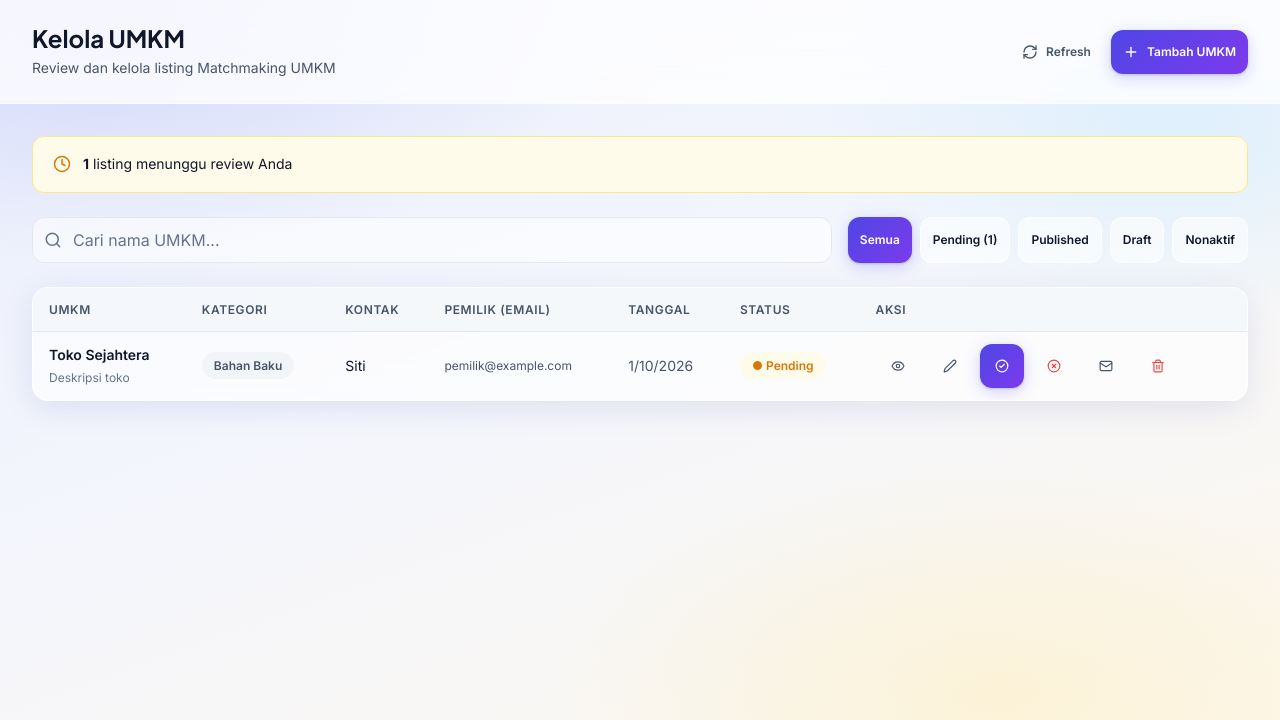
Test case: Admin UMKM: mutasi dicek (tidak ada sukses palsu) › pemilik listing › cabut tautan: berhasil -> pemilik hilang + toast sukses
This screenshot has width=1280, height=720.
Expected: the text "Toko Sejahtera" is shown, [49,346,150,363]
Click the button titled "Lihat".
click(898, 366)  # box [876,344,920,388]
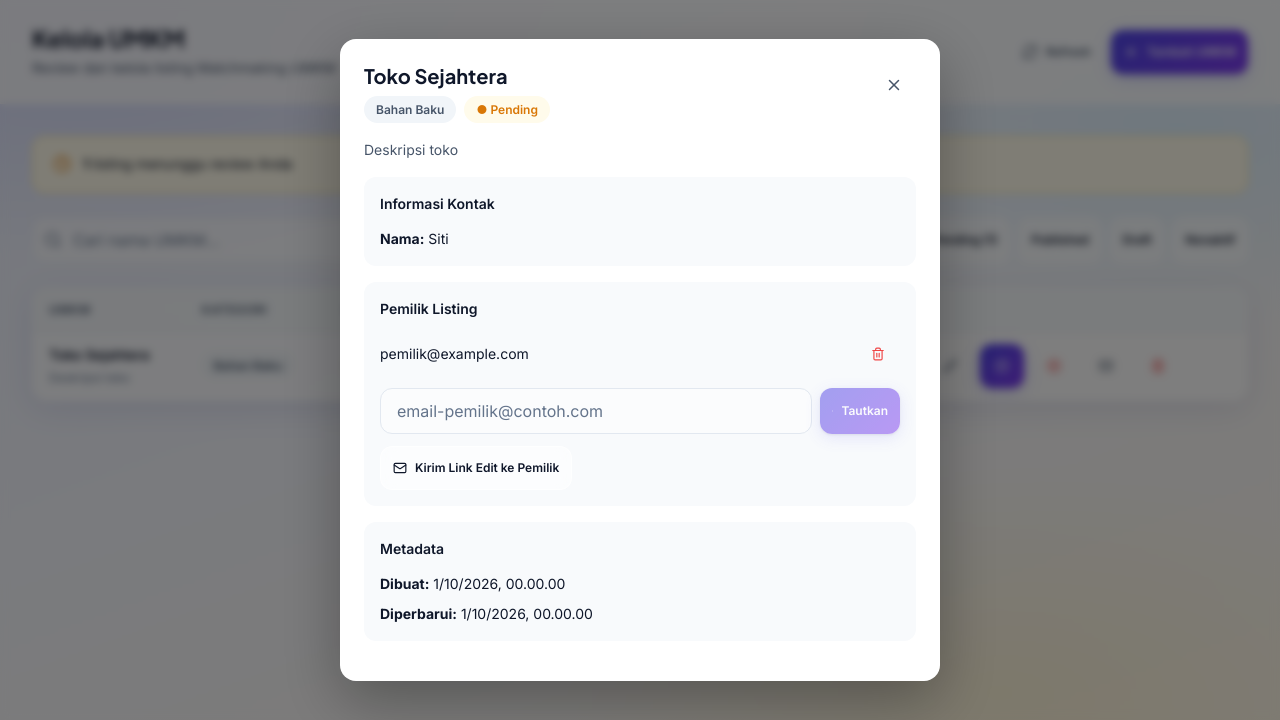
Click the button titled "Hapus tautan pemilik".
click(878, 354)  # box [856,332,900,376]
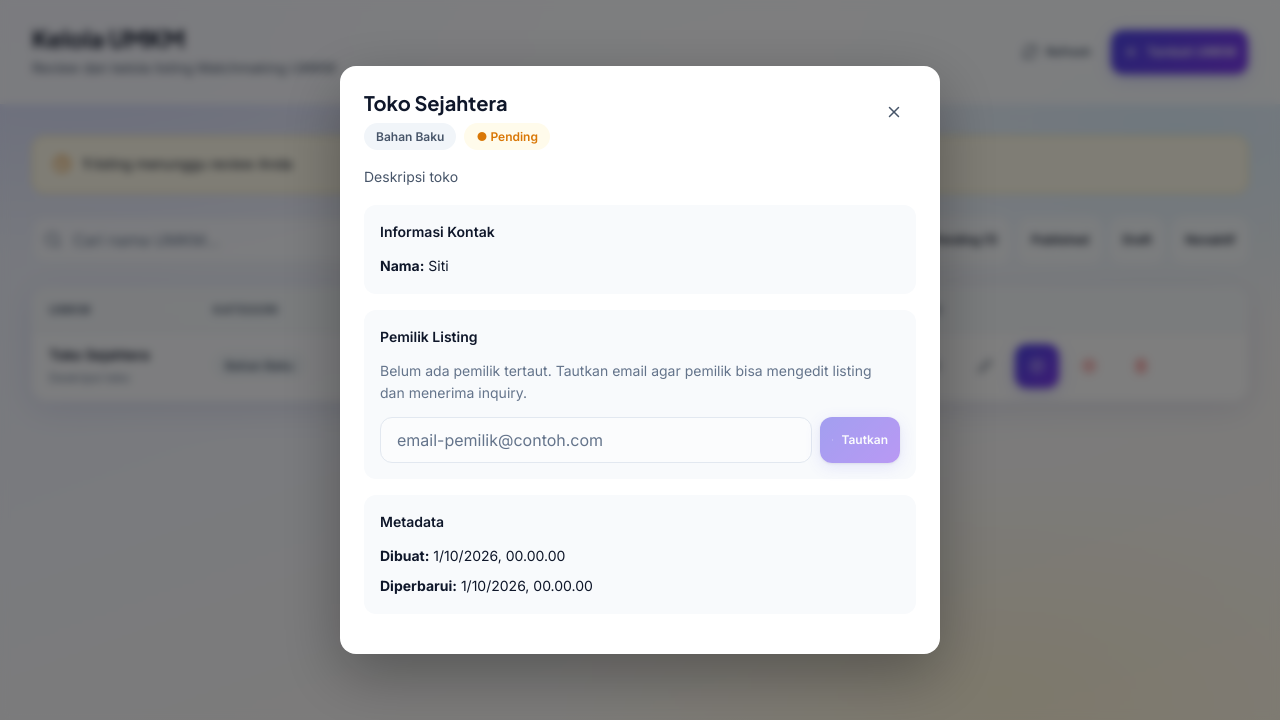
Now the text "pemilik@example.com" is not shown
